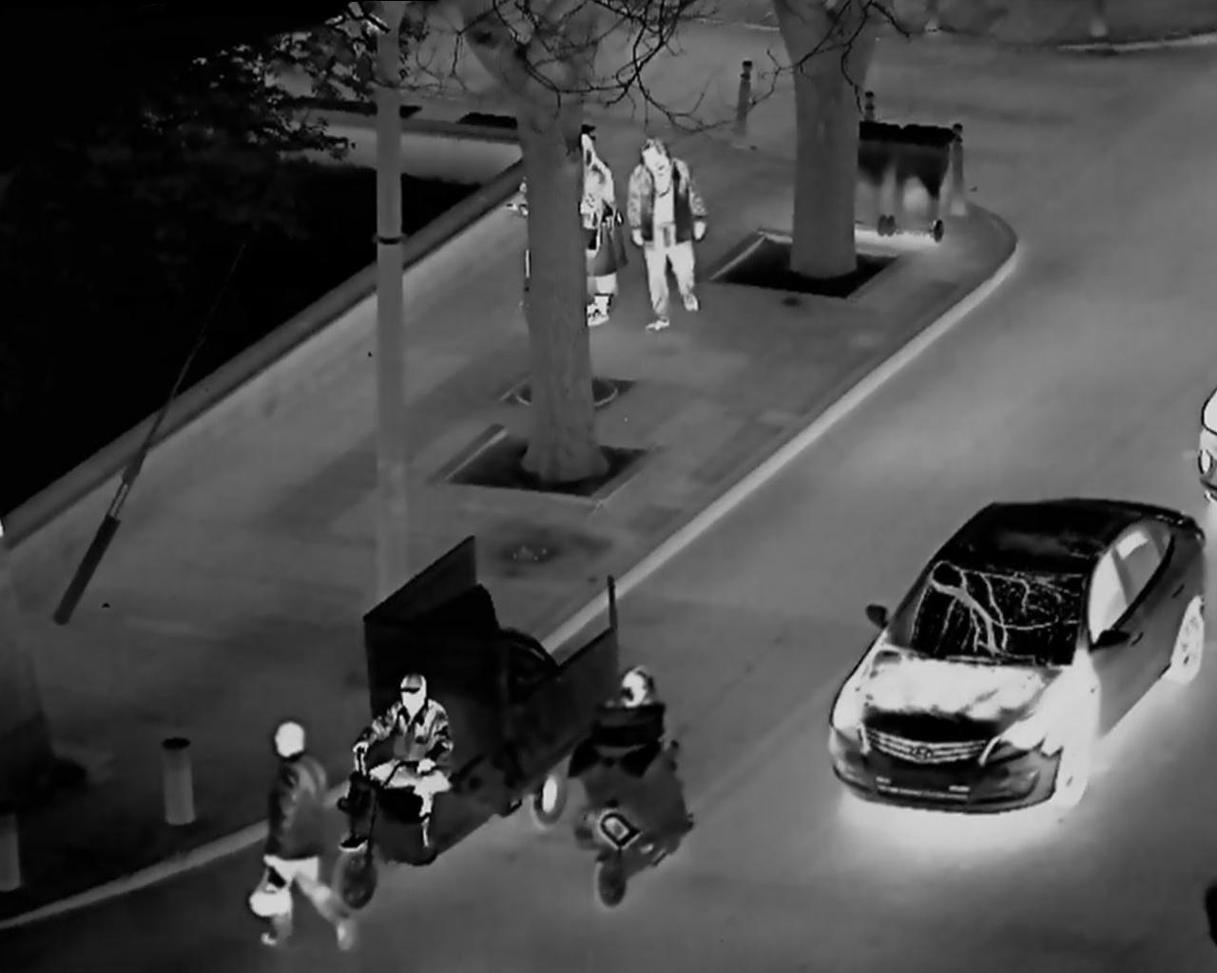person: (565, 663, 705, 892), (241, 705, 366, 950), (348, 651, 466, 866), (618, 129, 725, 341), (552, 123, 629, 326)
